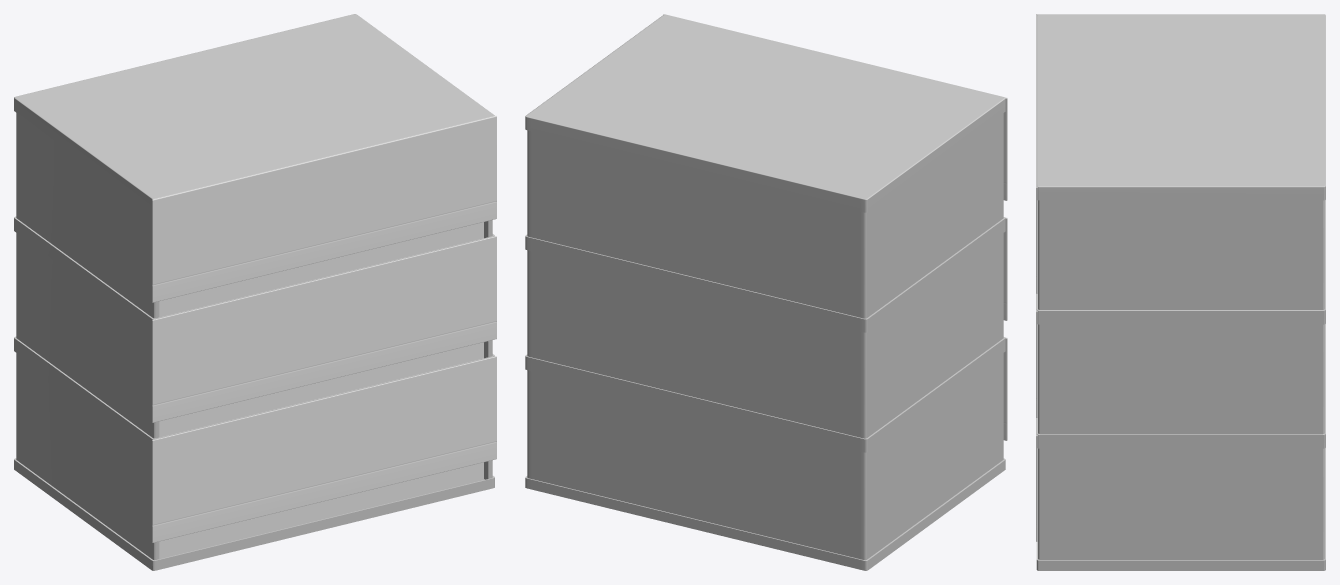
The model's file is cabinet.fbx.
3 views of the same model, side by side, from view 1: azimuth 30°, elevation 25°; view 2: azimuth 150°, elevation 25°; view 3: azimuth 270°, elevation 25° (orthographic). The views are drawn at different scales.
Parts seen in each view (by area): view 1: cabinet; view 2: cabinet; view 3: cabinet.
Part boxes in pixels (bbox=[...]): cabinet: bbox=[14, 14, 496, 570]; cabinet: bbox=[525, 14, 1007, 570]; cabinet: bbox=[1036, 14, 1325, 570].
Size of the model in its own units: 60.07 by 42.39 by 61.96.
1 material, 1 textured.
